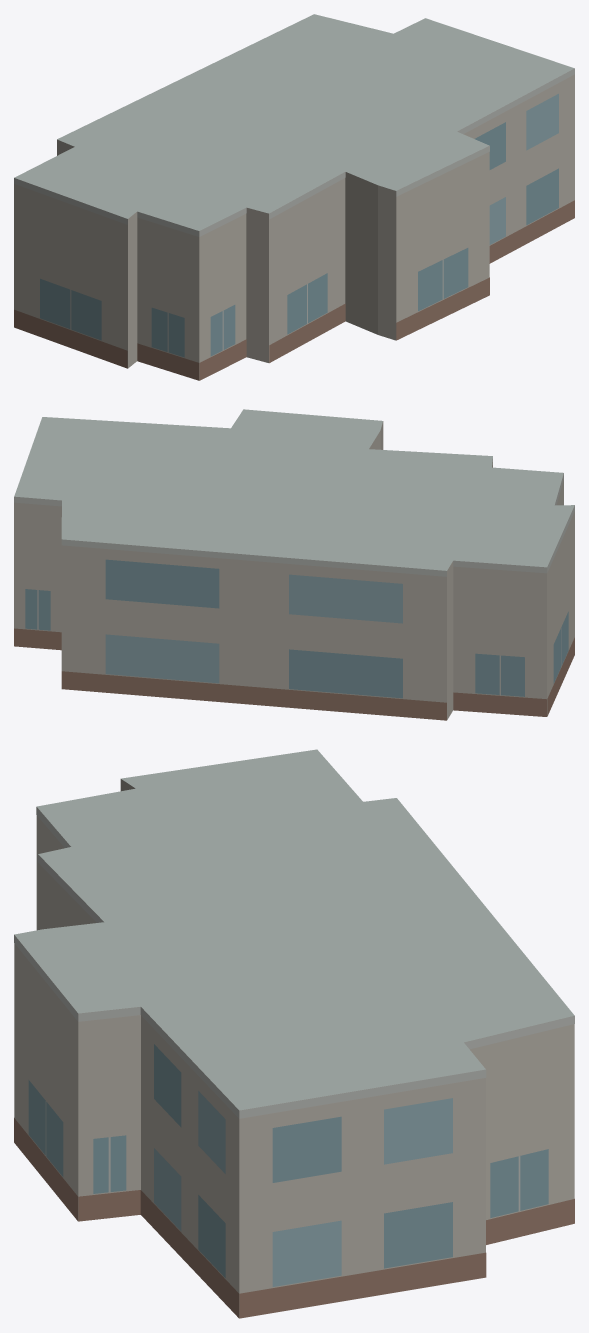
The model's file is survey-upis-32834476.glb.
The picture shows the model from 3 angles, top to bottom: view 1: azimuth 30°, elevation 25°; view 2: azimuth 150°, elevation 25°; view 3: azimuth 270°, elevation 25°; orthographic projection. The views are drawn at different scales.
Parts seen in each view (by area): view 1: survey-upis-32834476.tmp; view 2: survey-upis-32834476.tmp; view 3: survey-upis-32834476.tmp.
Boxes of the visible parts, x1,y1,x2,y2 form: survey-upis-32834476.tmp: [14, 14, 574, 380]; survey-upis-32834476.tmp: [14, 409, 574, 720]; survey-upis-32834476.tmp: [14, 749, 574, 1318].
Bounding box in the file's own units: 22.73 × 6.1 × 14.91.
